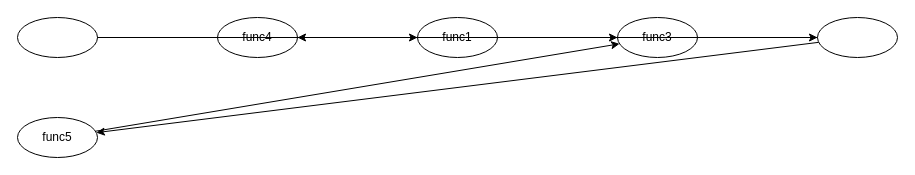
This 915x175 diagram has some shape labels left out. Each missing label, with the box of its shape:
func2: (816, 16, 898, 58)
main: (16, 16, 98, 58)
